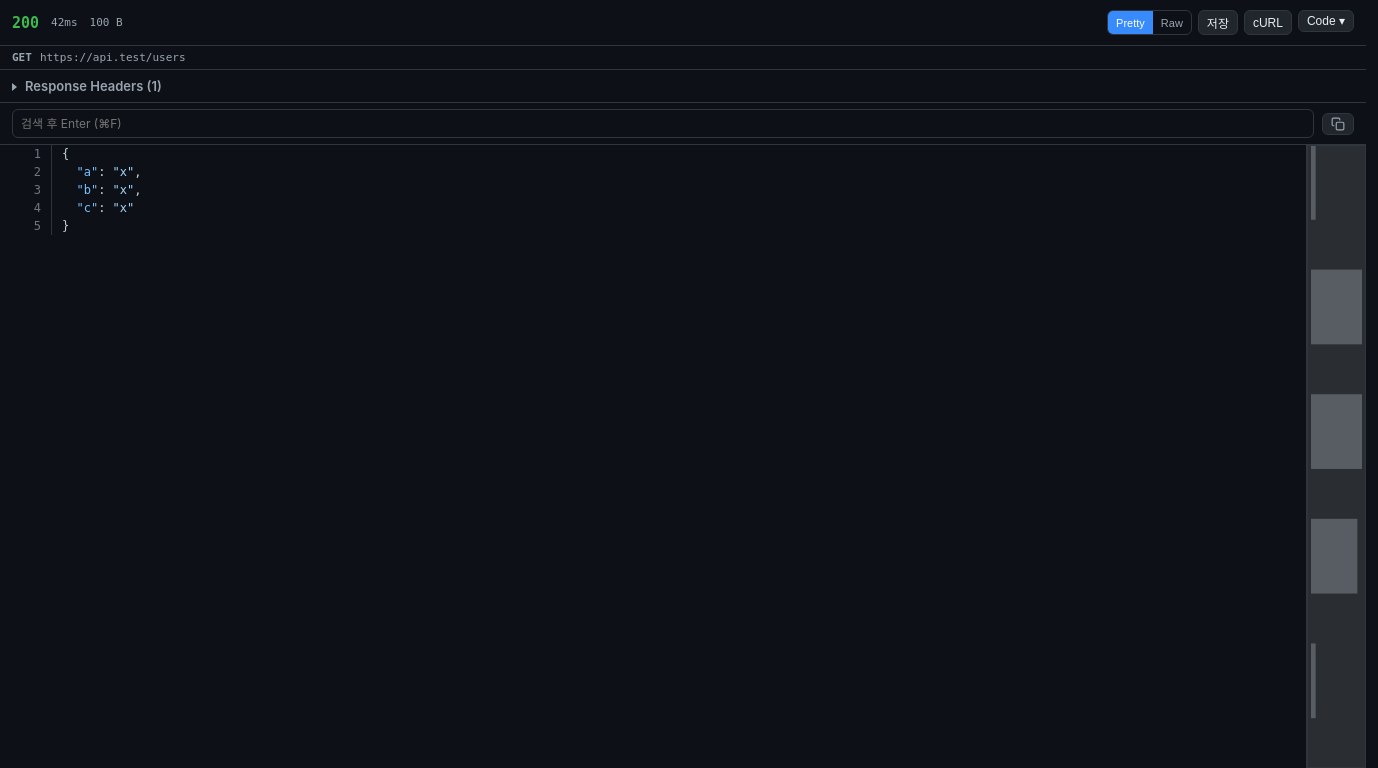
Test: ResponseView 검색 › 검색어 Enter로 매치 카운트, 다음/이전 이동
This screenshot has width=1378, height=768.
Type "\"x\"" into the field with placeholder "검색 후 Enter (⌘F)" at (663, 124), box [12,109,1314,138]
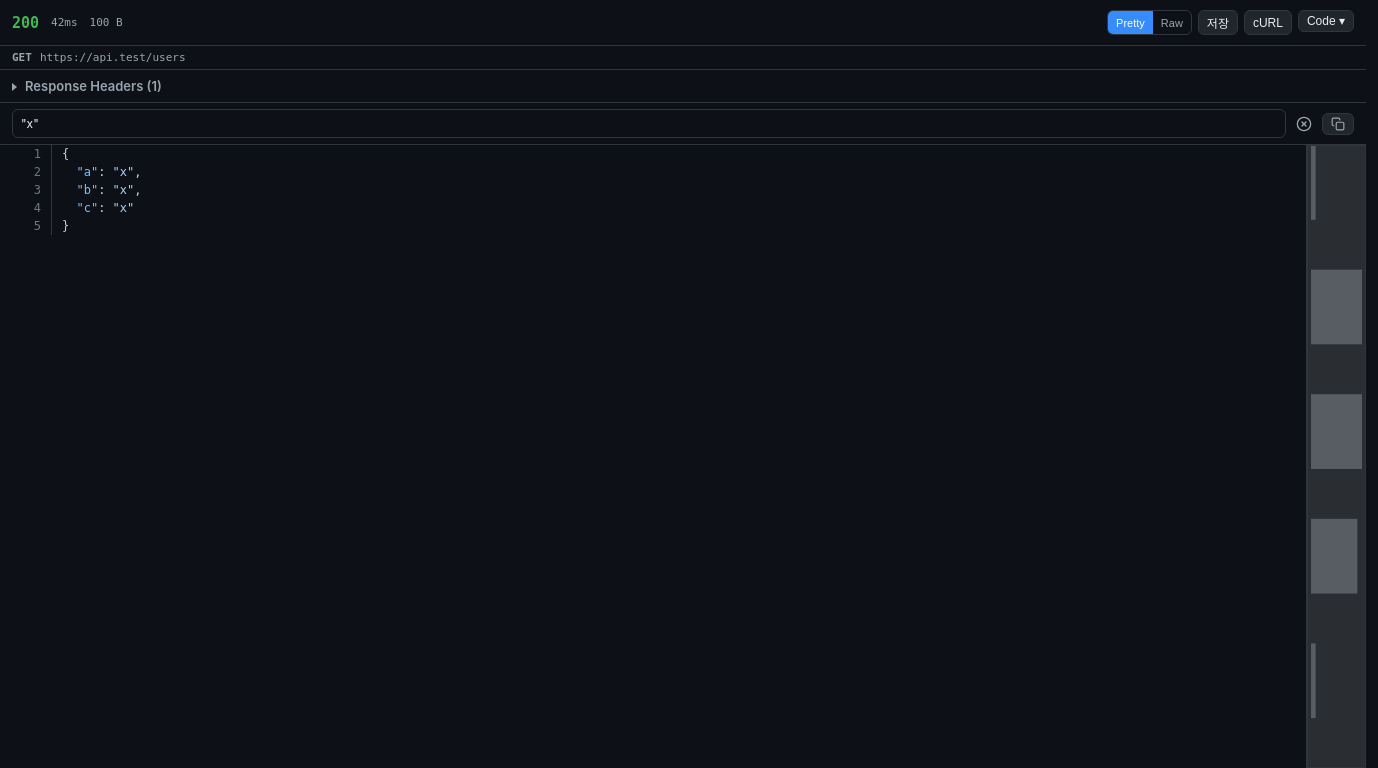
Press Enter in the field with placeholder "검색 후 Enter (⌘F)", box [12,109,1286,138]
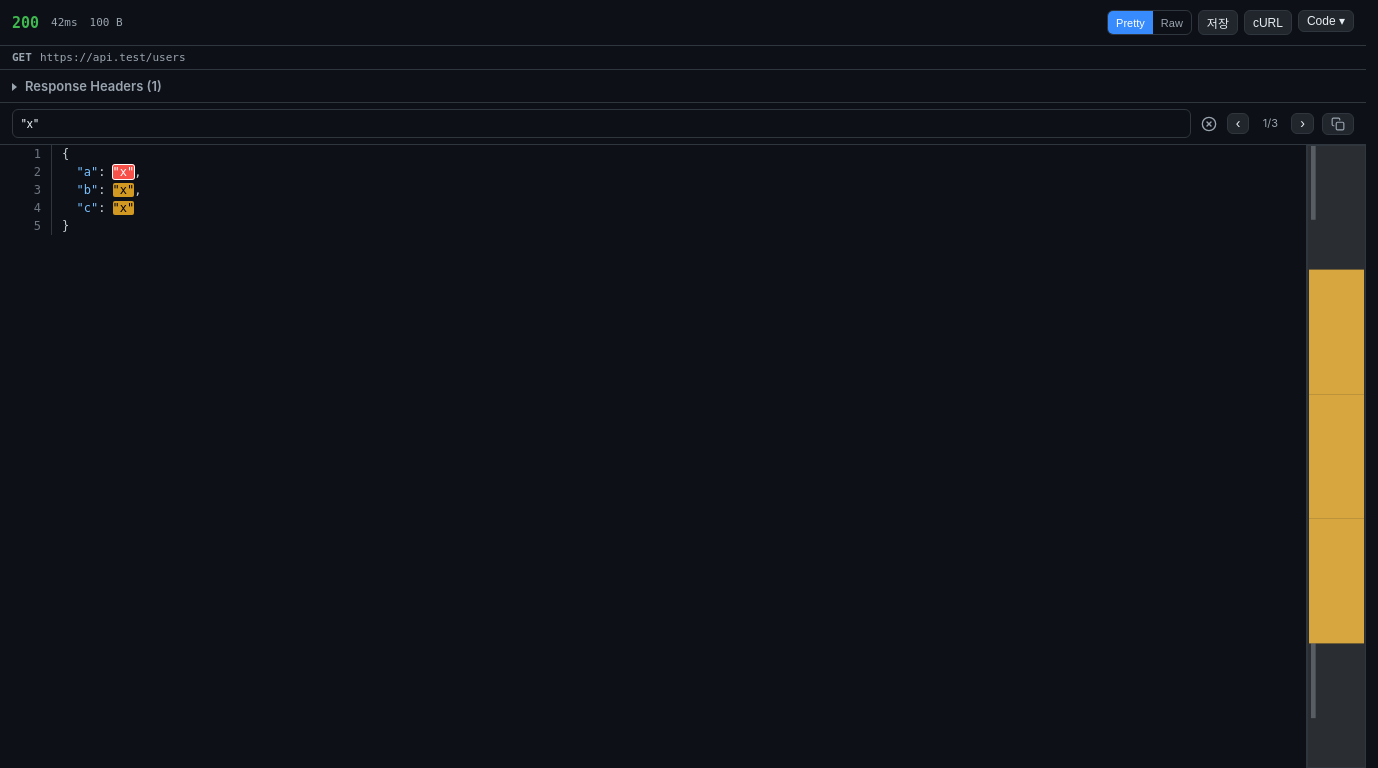
Check: the text "1/3" is shown, box [1263,116,1278,130]
Press Enter in the field with placeholder "검색 후 Enter (⌘F)", box [12,109,1191,138]
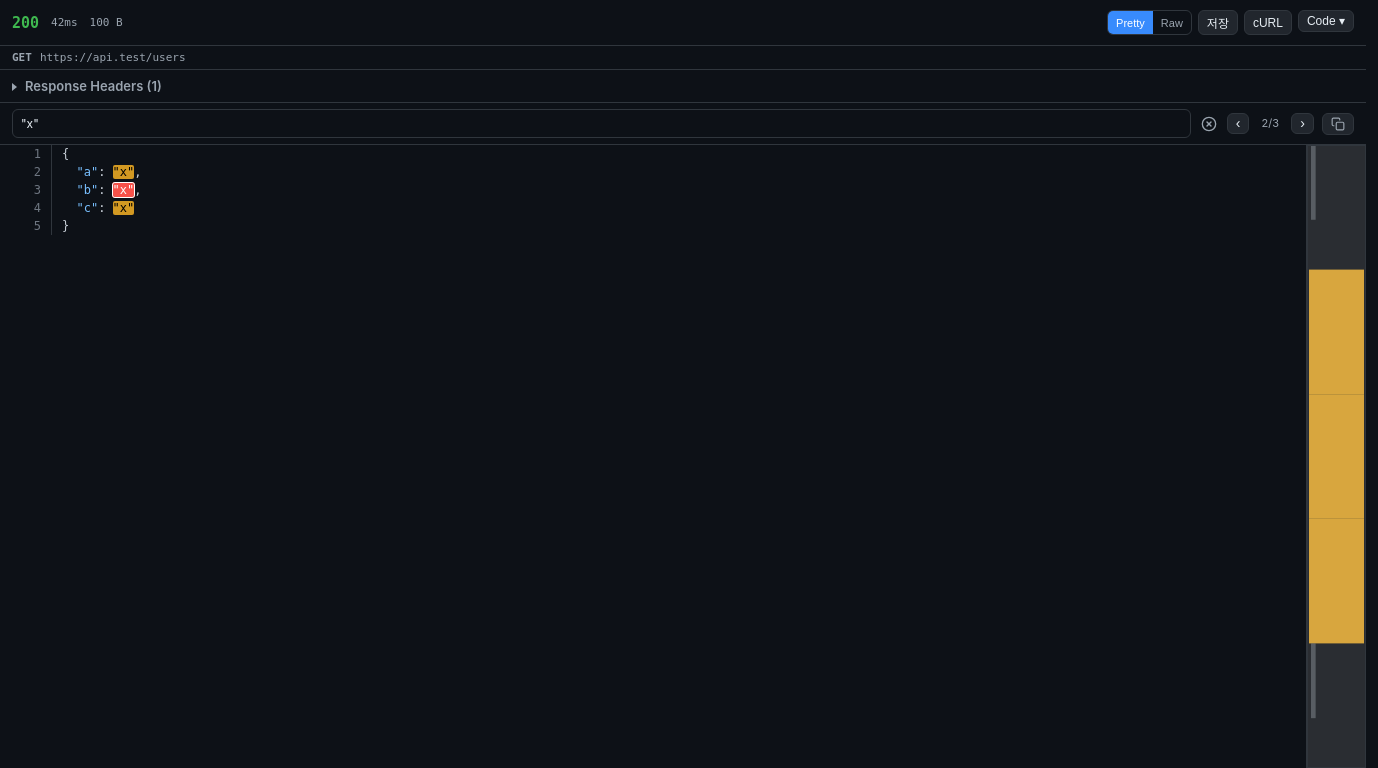
Check: the text "2/3" is shown, box [1262,116,1279,130]
Press Enter in the field with placeholder "검색 후 Enter (⌘F)", box [12,109,1191,138]
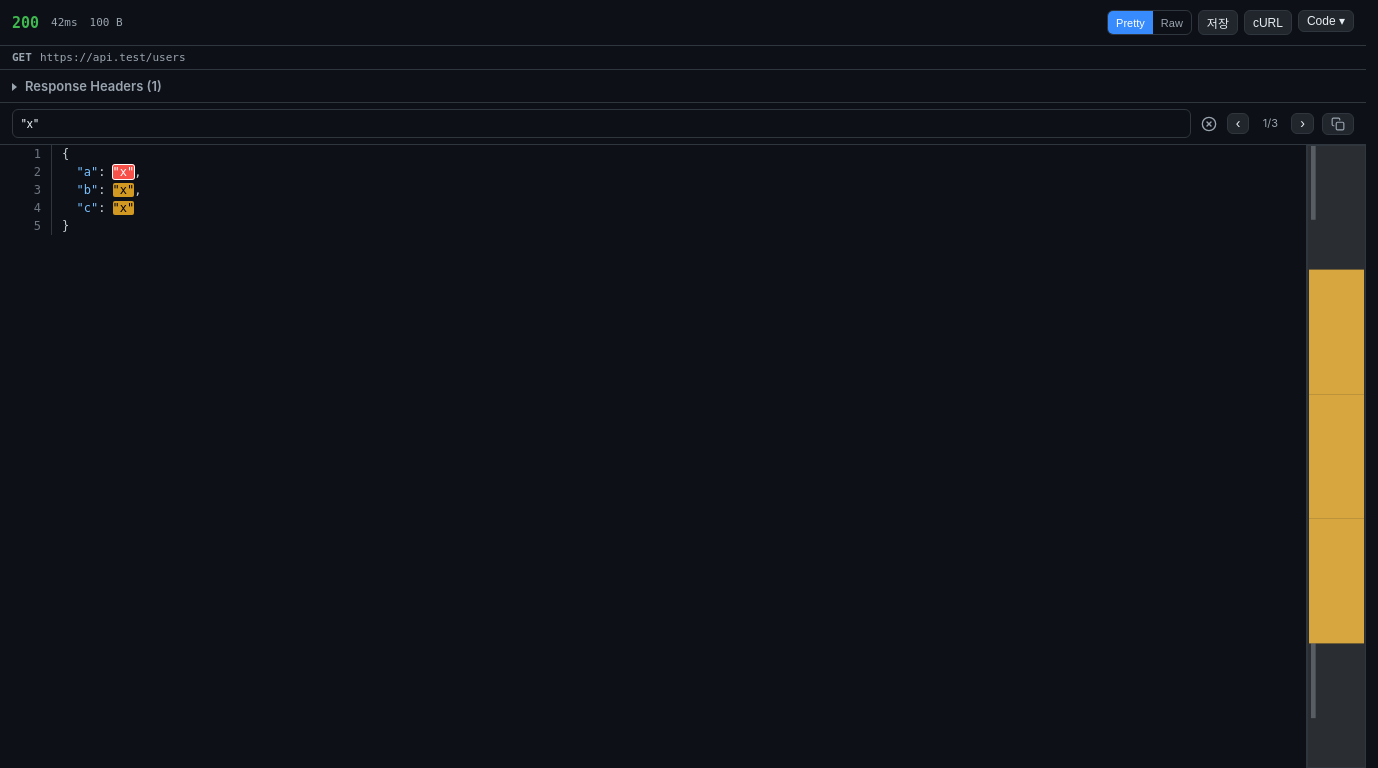
Check: the text "1/3" is shown, box [1263,116,1278,130]
